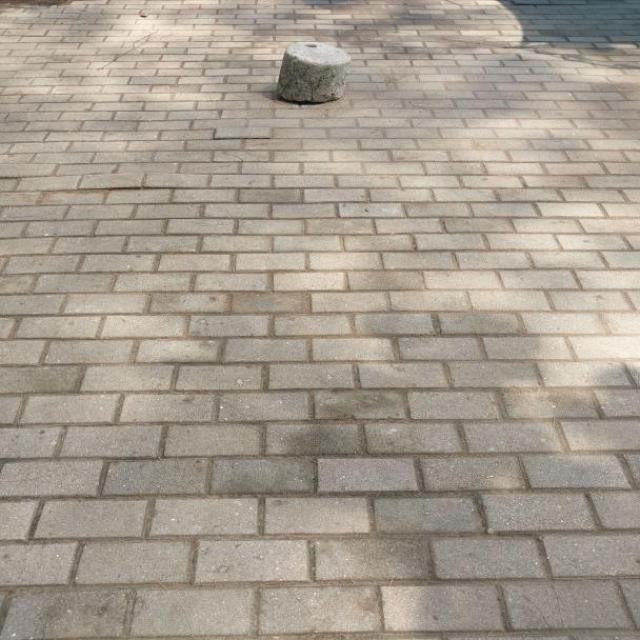stones ahead at: (266, 34, 361, 105)
